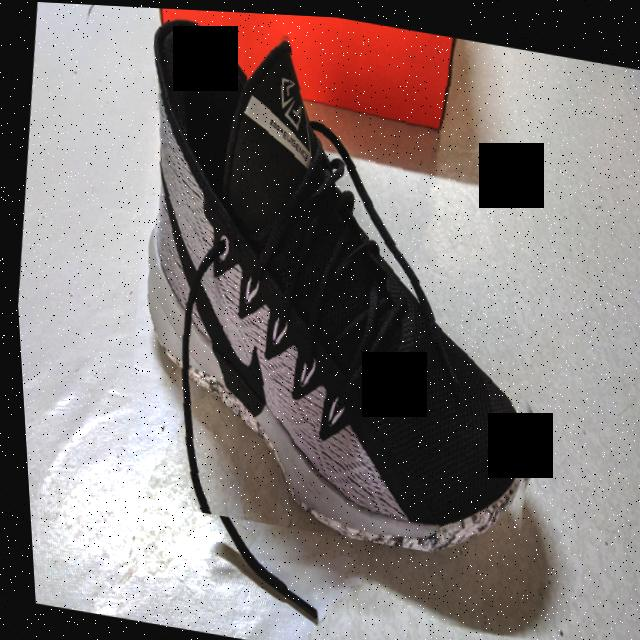shoe: (95, 4, 585, 566)
